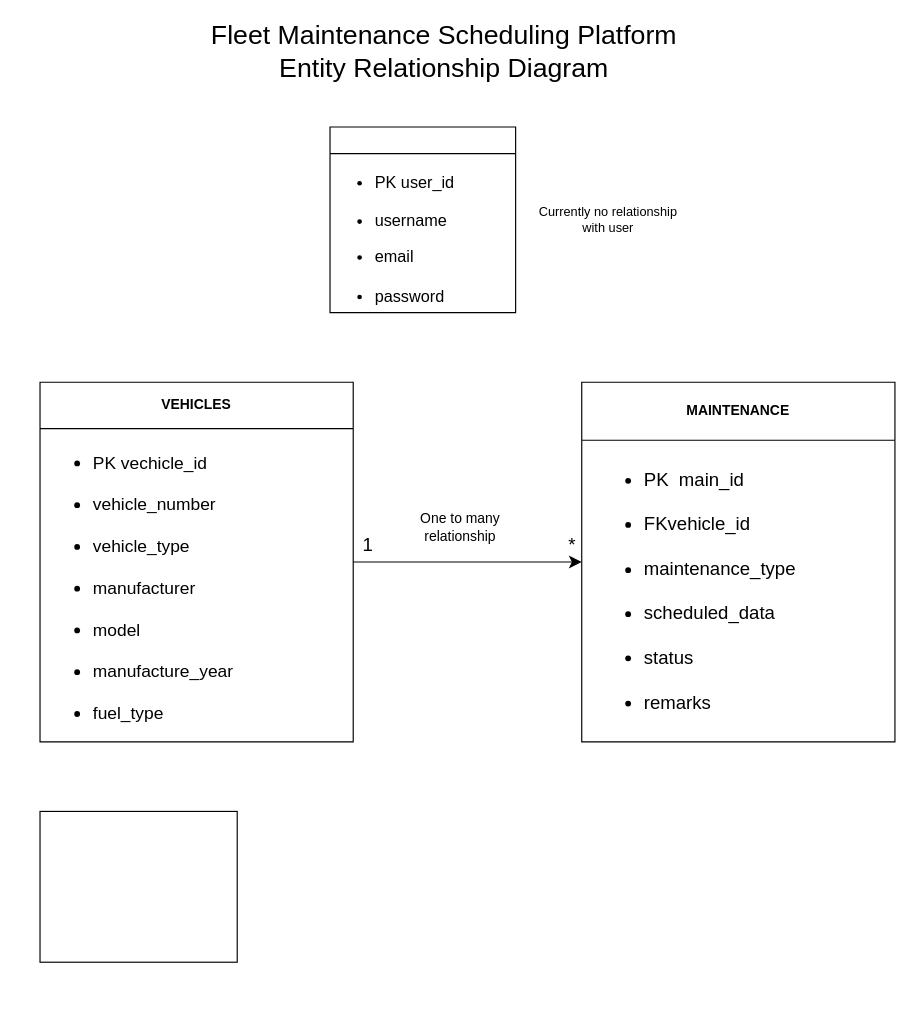
This 915x1021 diagram has some shape labels left out. Each missing label, with the box of its shape:
Legend ------- PK = Primary Key FK = Foreign Key 1 = One * = Many: (39, 810, 237, 962)
USERS: (329, 126, 516, 313)
